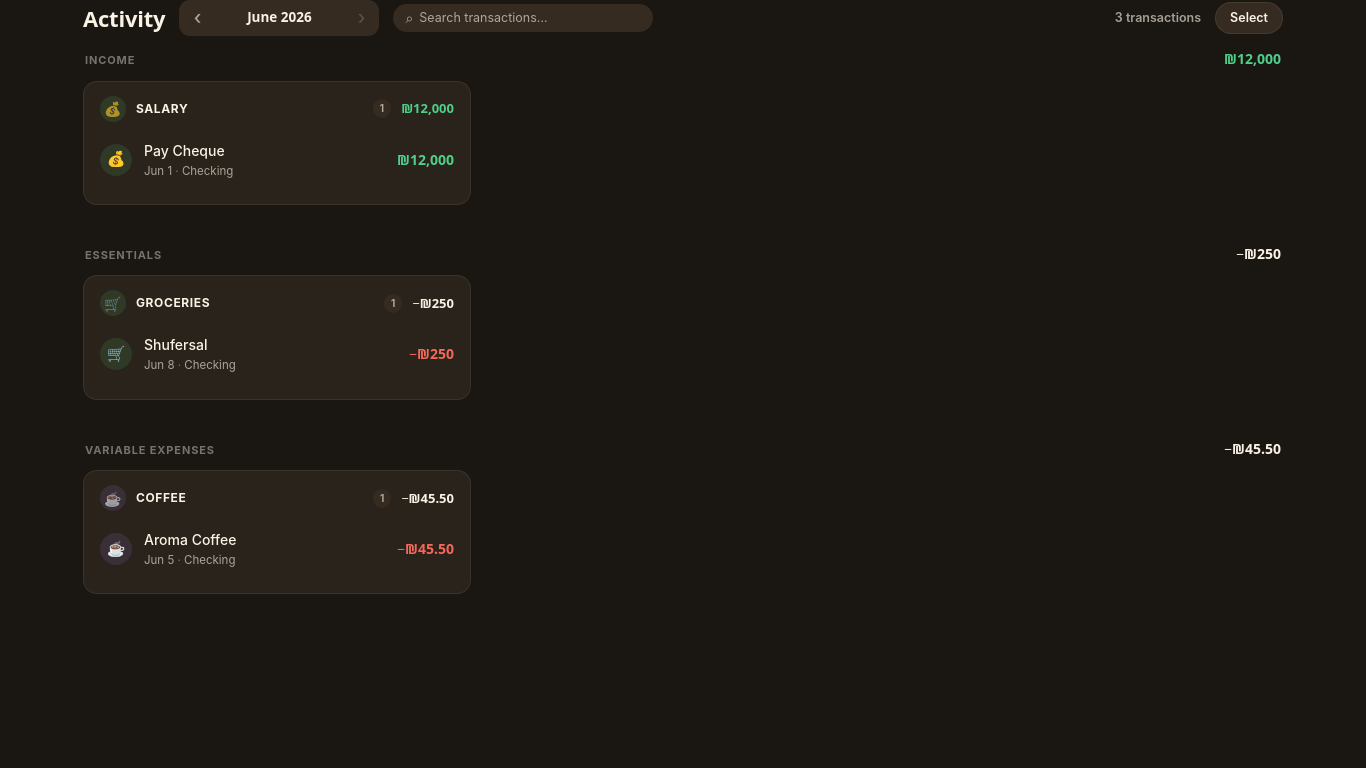
Test case: ActivityView — category move › clicking a row opens a sidebar showing all categories
Click the text "Aroma Coffee": x=190, y=540 x1=144 y1=531 x2=236 y2=548
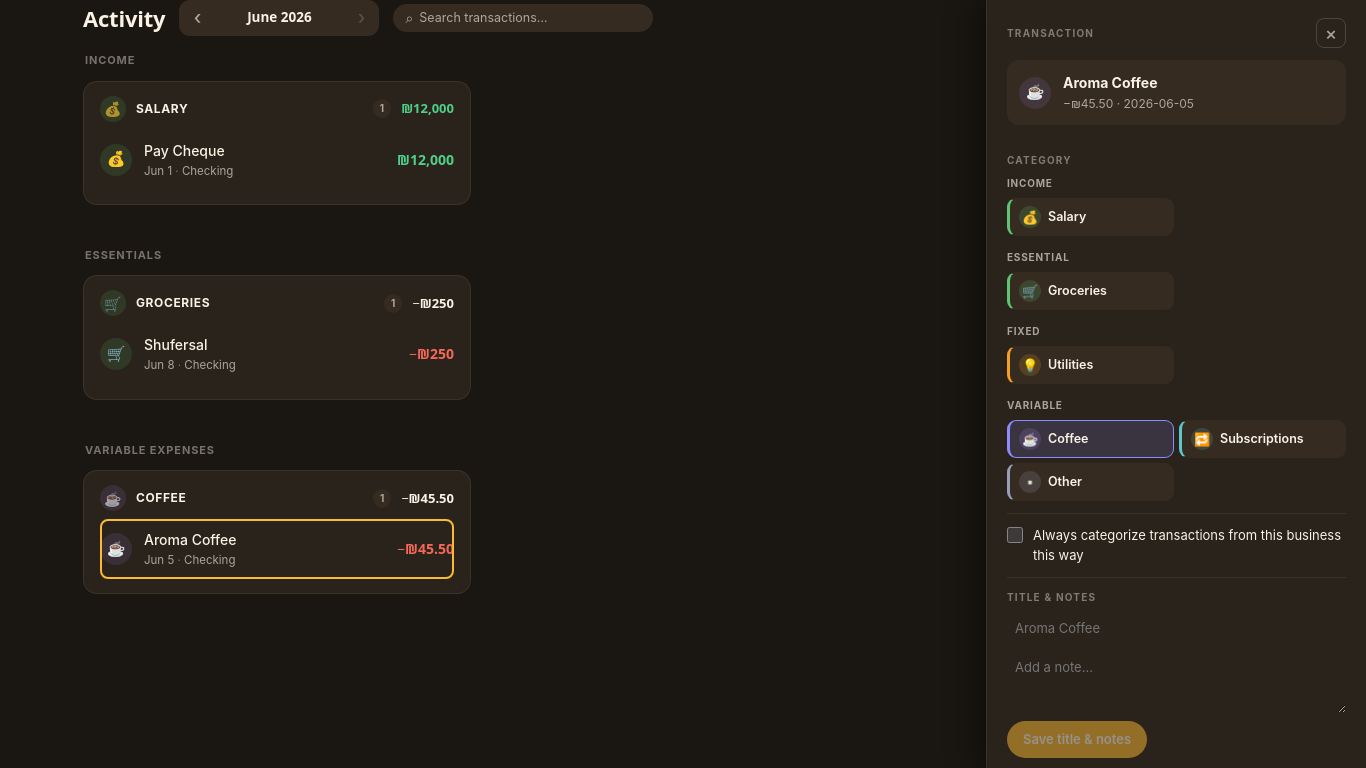
Check: the button "🛒 Groceries" is shown, box x1=1007 y1=272 x2=1174 y2=310
Check: the button "☕ Coffee" is shown, box x1=1007 y1=420 x2=1174 y2=458
Check: the button "💰 Salary" is shown, box x1=1007 y1=198 x2=1174 y2=236
